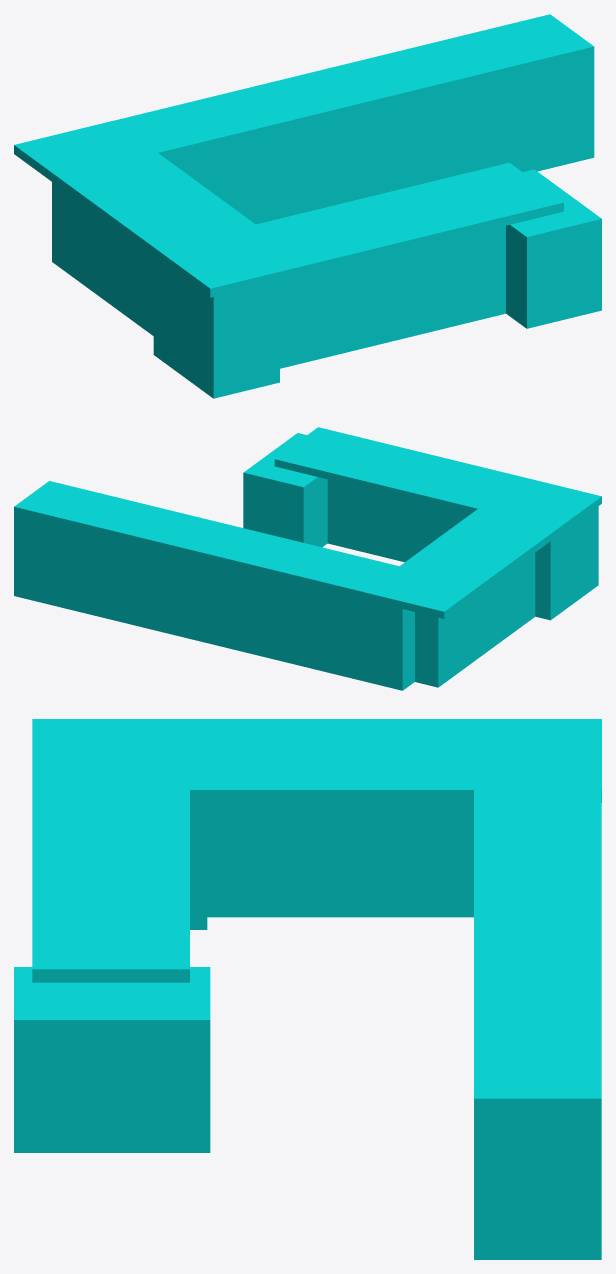
File: SM_Prop_Desk_01_Collision.fbx
The picture shows the model from 3 angles, top to bottom: view 1: azimuth 30°, elevation 25°; view 2: azimuth 150°, elevation 25°; view 3: azimuth 270°, elevation 25°; orthographic projection. The views are drawn at different scales.
Visible parts, largest first — view 1: SM_Prop_Desk_01_Collision; view 2: SM_Prop_Desk_01_Collision; view 3: SM_Prop_Desk_01_Collision.
Part boxes in pixels (x1,y1,x2,y2): SM_Prop_Desk_01_Collision: [14, 14, 601, 398]; SM_Prop_Desk_01_Collision: [14, 427, 601, 690]; SM_Prop_Desk_01_Collision: [14, 719, 601, 1259].
Bounding box in the file's own units: 443 × 87.86 × 290.
